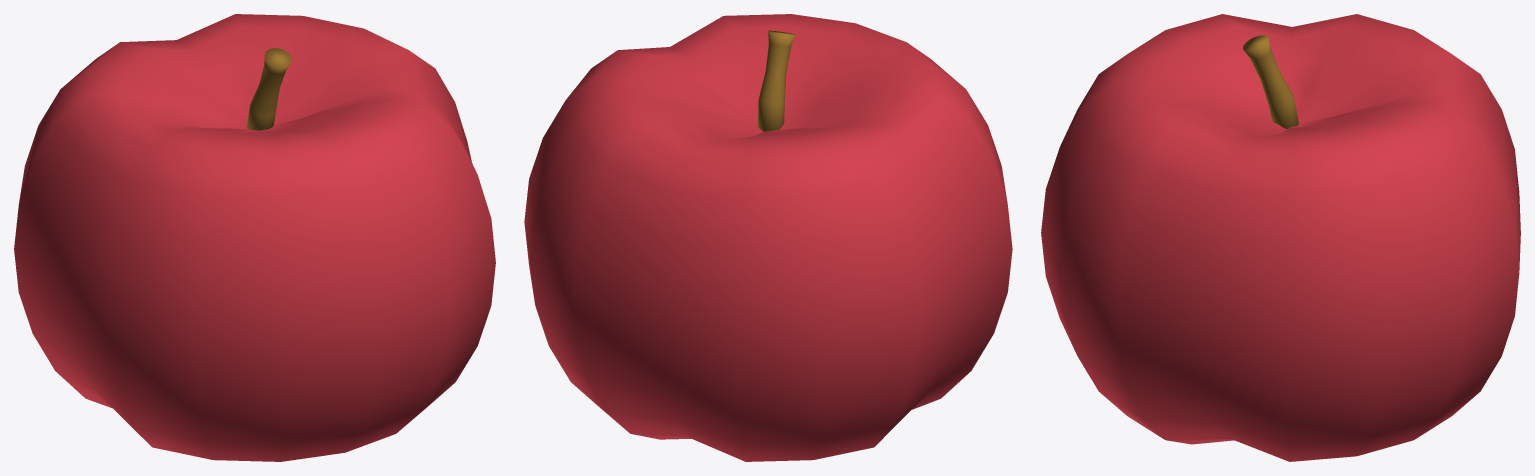
Rendered from Apple1.fbx.
The picture shows the model from 3 angles, left to right: view 1: azimuth 30°, elevation 25°; view 2: azimuth 150°, elevation 25°; view 3: azimuth 270°, elevation 25°; orthographic projection.
Parts seen in each view (by area): view 1: Cylinder; view 2: Cylinder; view 3: Cylinder.
Part boxes in pixels (box(x1,y1,x2,y2)): Cylinder: box(14, 14, 495, 461); Cylinder: box(524, 14, 1012, 461); Cylinder: box(1041, 14, 1520, 461).
Bounding box in the file's own units: 367 × 366 × 313.
